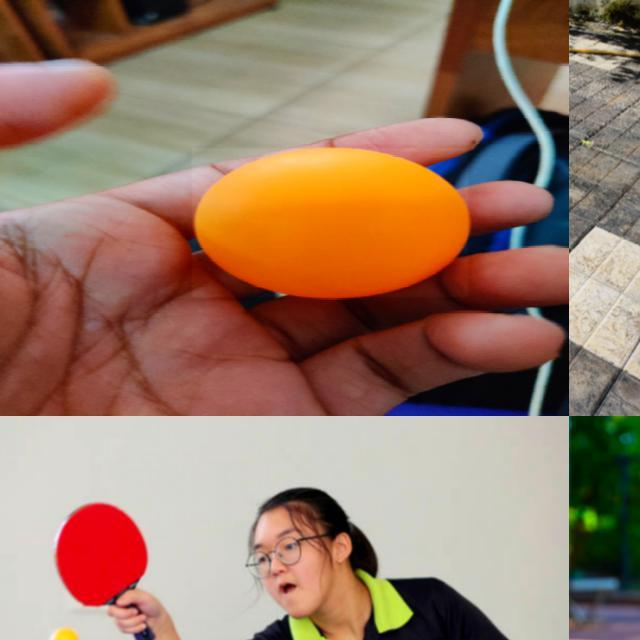ping-pong-ball: (192, 148, 469, 298), (48, 628, 79, 639)
